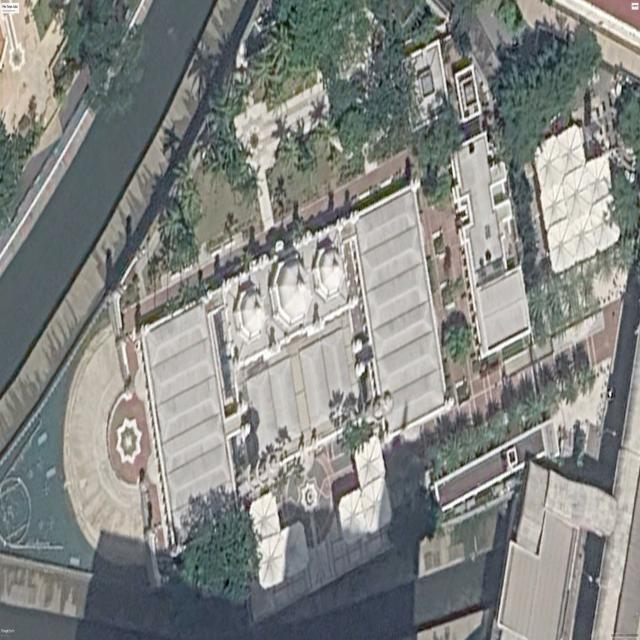mosque: (142, 188, 446, 527)
